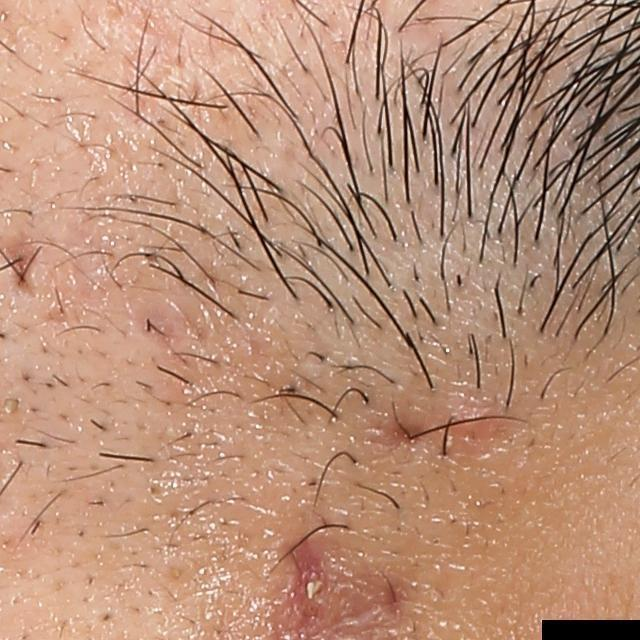atrophic_scar: (1, 231, 42, 297)
papule: (437, 395, 503, 442)
